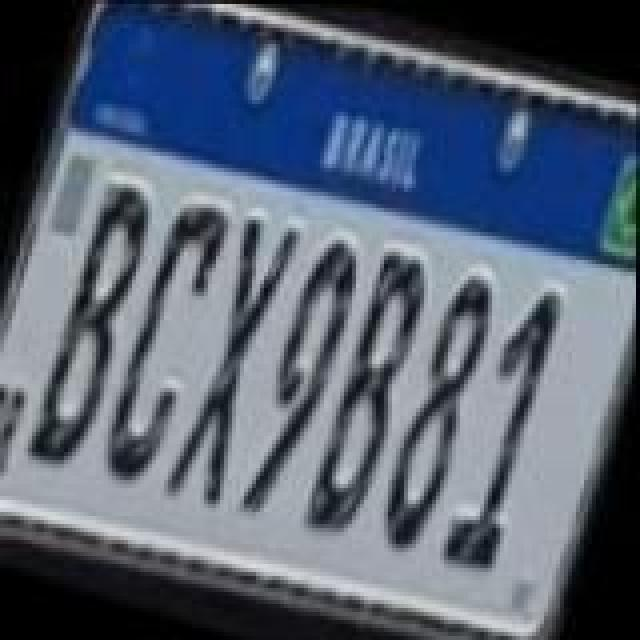1: (432, 274, 576, 582)
8: (372, 258, 512, 562)
9: (232, 230, 372, 530)
B: (18, 168, 166, 476), (298, 240, 442, 548)
C: (92, 190, 236, 490)
X: (158, 208, 302, 512)
